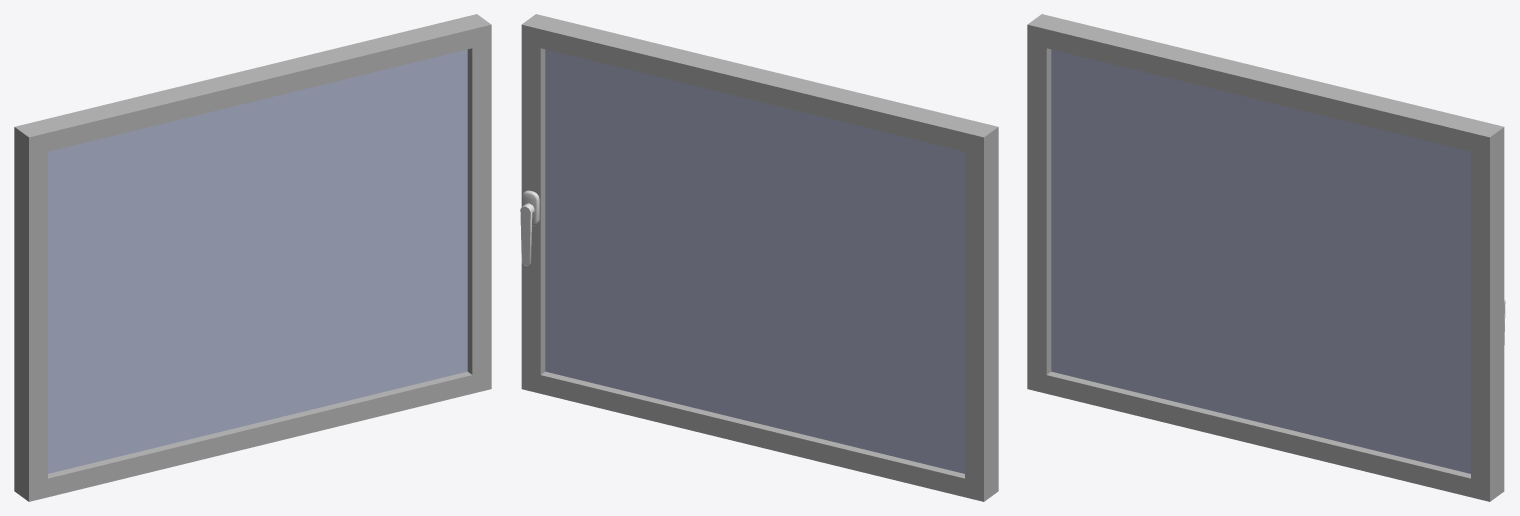
File: Window_03_A_SM.FBX
3 views of the same model, side by side, from view 1: azimuth 30°, elevation 25°; view 2: azimuth 150°, elevation 25°; view 3: azimuth 330°, elevation 25° (orthographic).
Parts seen in each view (by area): view 1: Window_03_A_SM; view 2: Window_03_A_SM; view 3: Window_03_A_SM.
Part boxes in pixels (x1=…): Window_03_A_SM: x1=14, y1=14, x2=491, y2=501; Window_03_A_SM: x1=520, y1=14, x2=998, y2=501; Window_03_A_SM: x1=1027, y1=14, x2=1505, y2=501.
Bounding box in the file's own units: 168 × 12.77 × 127.
